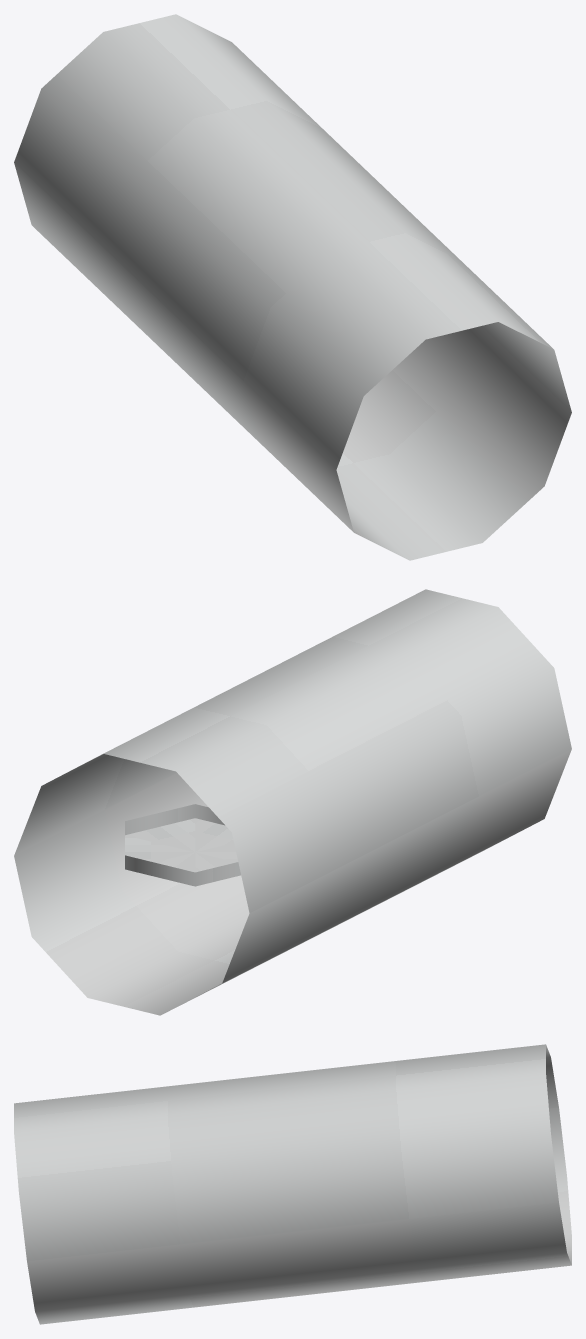
The model's file is trusssignalarm_level10_c10.obj.
3 views of the same model, one above another, from view 1: azimuth 30°, elevation 25°; view 2: azimuth 150°, elevation 25°; view 3: azimuth 270°, elevation 25° (orthographic). The views are drawn at different scales.
Visible parts, largest first — view 1: trusssignalarm_level10_c10; view 2: trusssignalarm_level10_c10; view 3: trusssignalarm_level10_c10.
Boxes of the visible parts, x1,y1,x2,y2 form: trusssignalarm_level10_c10: [14, 14, 571, 560]; trusssignalarm_level10_c10: [14, 589, 571, 1015]; trusssignalarm_level10_c10: [14, 1044, 571, 1324].
Size of the model in its own units: 0.2625 by 0.3241 by 0.6528.
